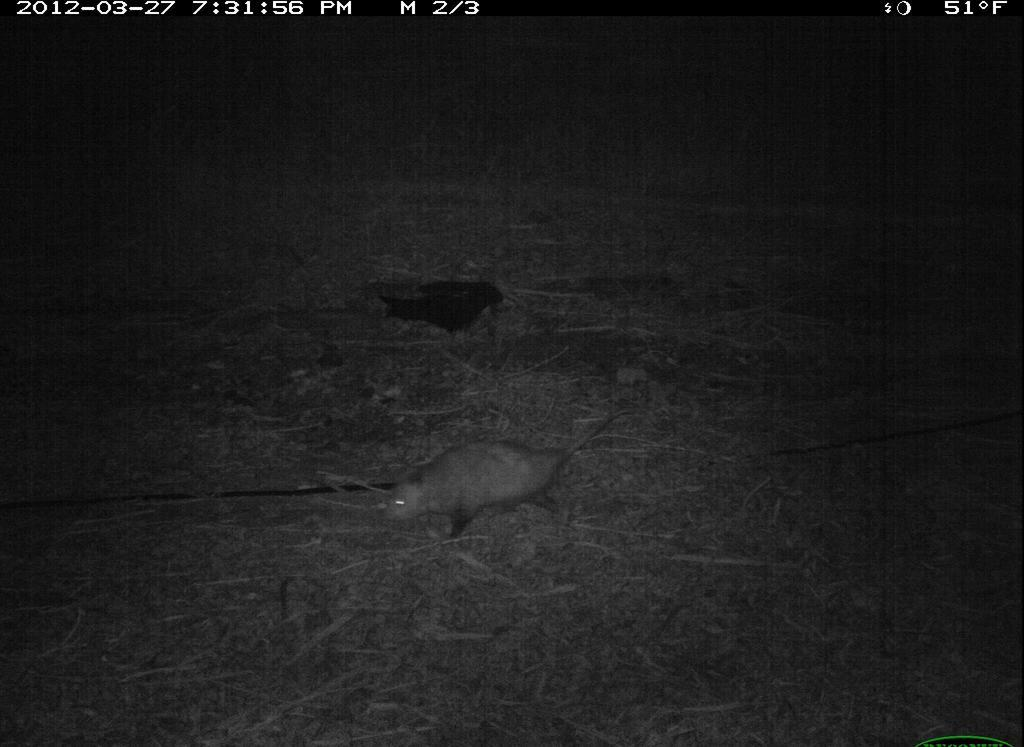opossum: (376, 408, 649, 545)
